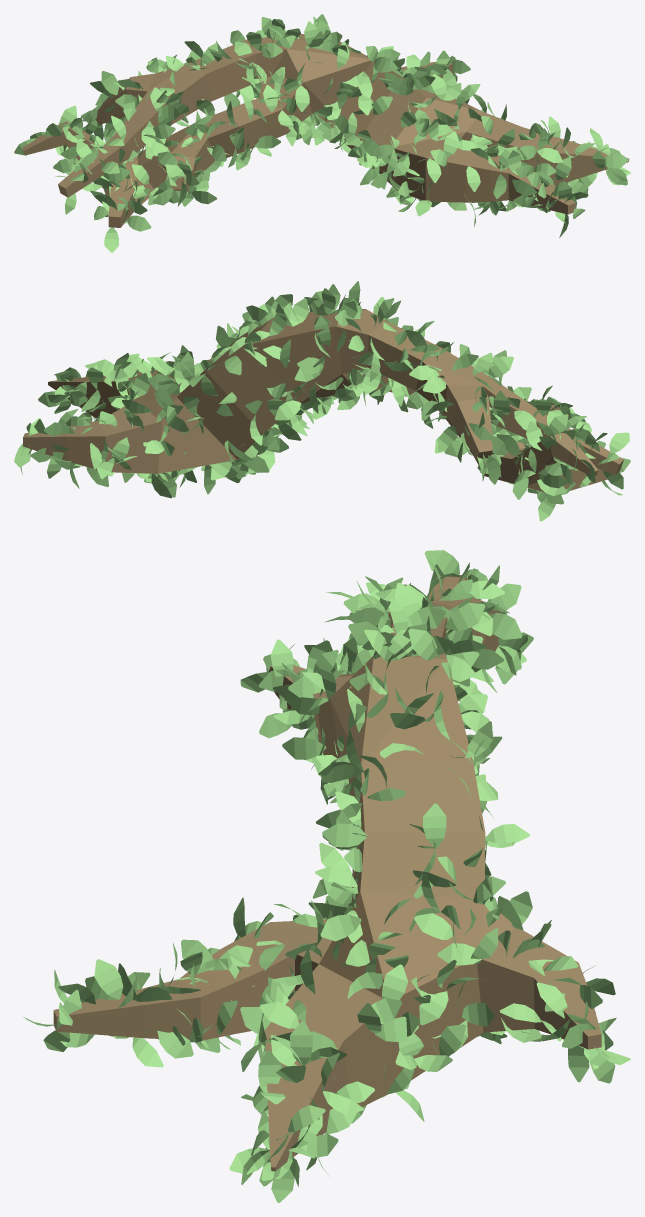
Rendered from bridge07.fbx.
3 renders of one model, top to bottom at view 1: azimuth 30°, elevation 25°; view 2: azimuth 150°, elevation 25°; view 3: azimuth 270°, elevation 25°, orthographic. The views are drawn at different scales.
Parts seen in each view (by area): view 1: Tree4; view 2: Tree4, Tree4|leaf|Dupli|435, Tree4|leaf|Dupli|177, Tree4|leaf|Dupli|893; view 3: Tree4.
Part boxes in pixels (<box>): Tree4: <box>22,34,629,227</box>; Tree4: <box>23,309,623,492</box>; Tree4|leaf|Dupli|435: <box>488,356,513,377</box>; Tree4|leaf|Dupli|177: <box>274,400,301,420</box>; Tree4|leaf|Dupli|893: <box>289,298,309,326</box>; Tree4: <box>53,575,601,1171</box>.
Size of the model in its own units: 1602 by 604 by 957.
